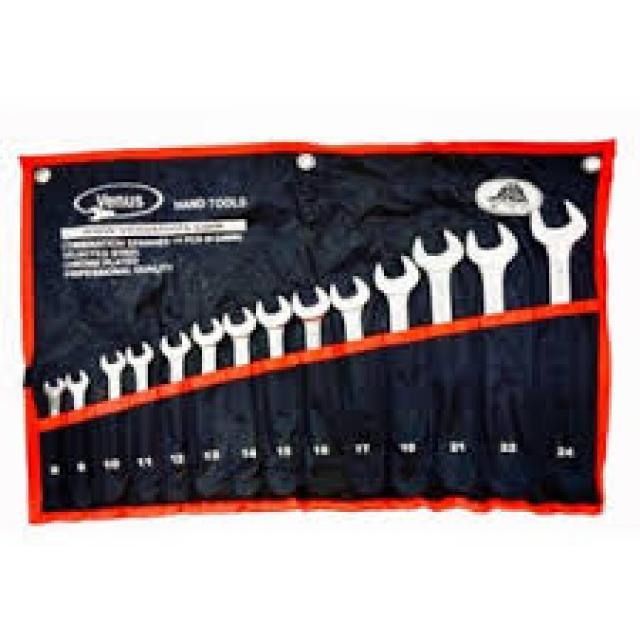wrench: (527, 196, 595, 332), (464, 218, 522, 320), (412, 225, 467, 332), (372, 252, 419, 335), (322, 272, 373, 346), (288, 280, 332, 349), (222, 304, 260, 371), (255, 294, 293, 359), (187, 316, 227, 374), (159, 328, 195, 388), (124, 338, 156, 398), (38, 377, 68, 432), (98, 352, 126, 406), (64, 367, 90, 417)
